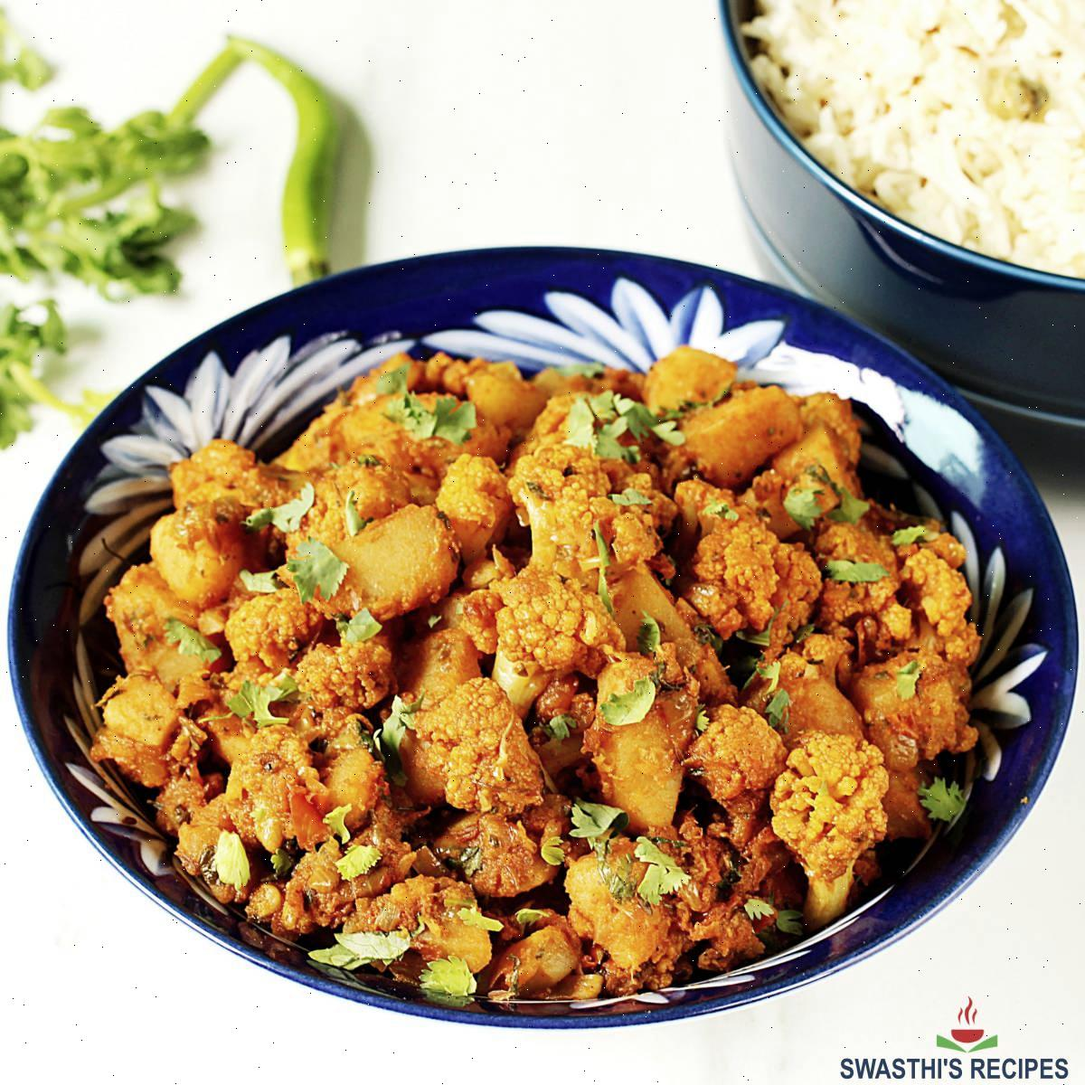aloo gobhi: (128, 351, 1043, 941)
rice: (764, 0, 1085, 251)
